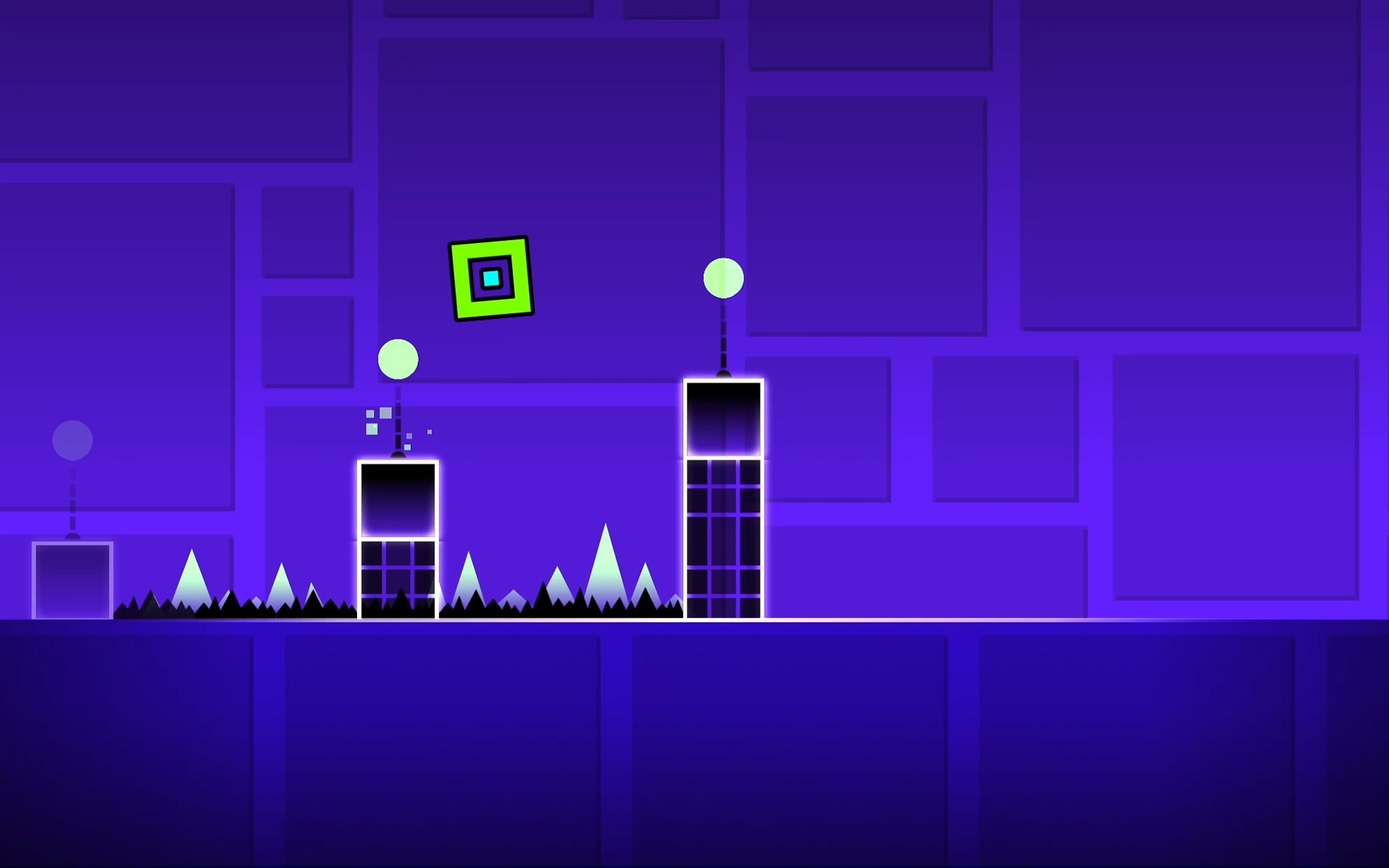Block: (32, 540, 113, 618), (358, 460, 438, 538), (684, 378, 764, 456)
Block2: (684, 460, 763, 620), (357, 539, 438, 619)
Player: (449, 237, 533, 320)
Spike3: (444, 589, 681, 621), (111, 593, 354, 620)
